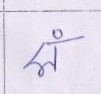anusvara: (53, 31, 63, 38)
